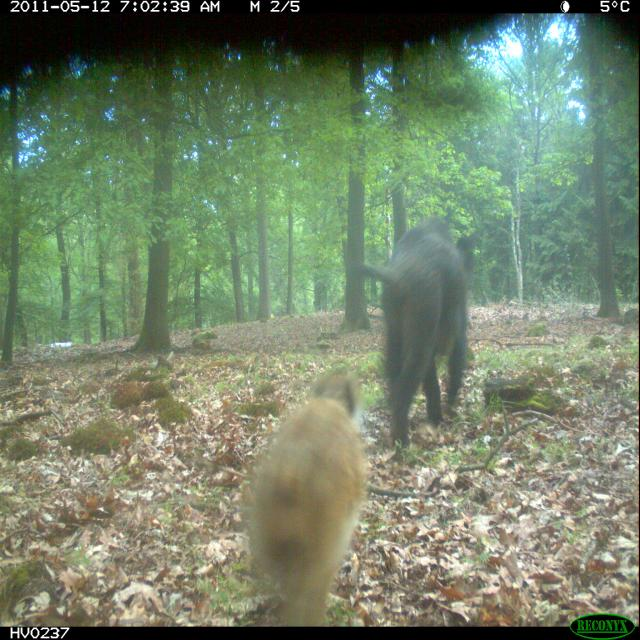boar: (216, 338, 399, 628), (313, 213, 507, 462)
